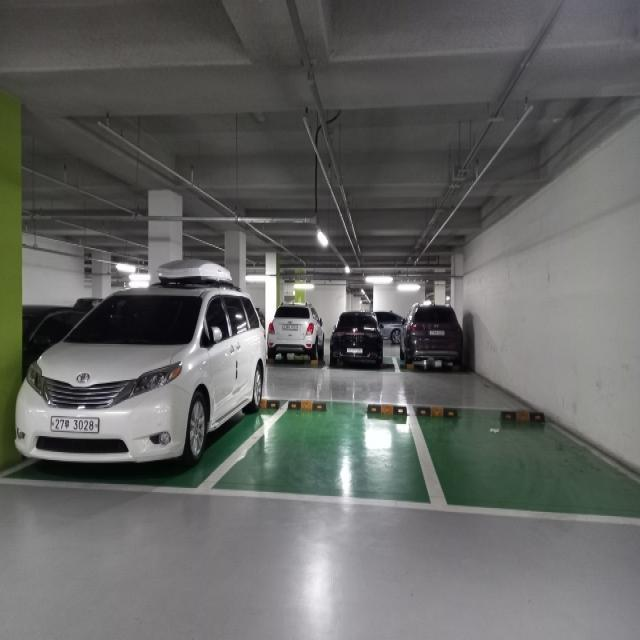empty: (431, 408, 640, 509), (265, 399, 434, 489)
occupied: (16, 256, 268, 482), (398, 298, 464, 376), (265, 300, 325, 372), (330, 308, 382, 374)
